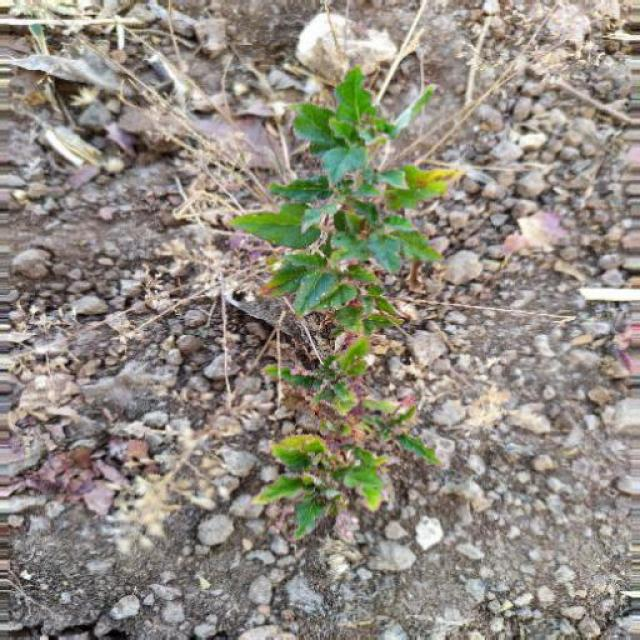weed: (173, 22, 478, 500)
